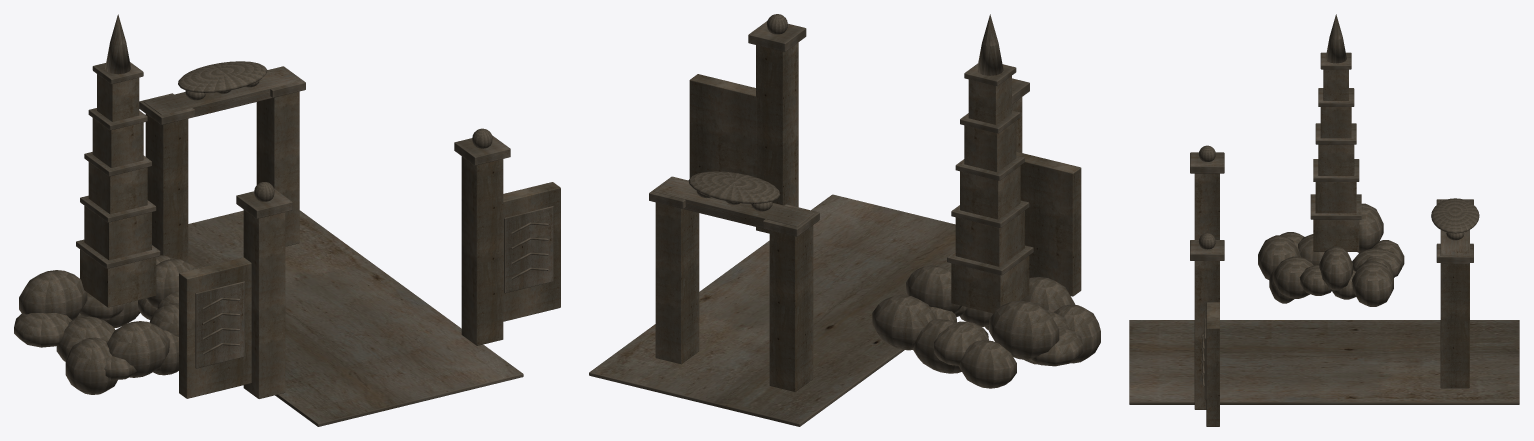
File: thap_but_dai_nghien.glb
The picture shows the model from 3 angles, left to right: view 1: azimuth 30°, elevation 25°; view 2: azimuth 150°, elevation 25°; view 3: azimuth 270°, elevation 25°; orthographic projection. The views are drawn at different scales.
Visible parts, largest first — view 1: thap_but_dai_nghien.001; view 2: thap_but_dai_nghien.001; view 3: thap_but_dai_nghien.001.
Part boxes in pixels (left/top/right/bottom): thap_but_dai_nghien.001: left=14, top=14, right=560, bottom=426; thap_but_dai_nghien.001: left=589, top=14, right=1100, bottom=426; thap_but_dai_nghien.001: left=1129, top=14, right=1519, bottom=426.
Bounding box in the file's own units: 11.1 × 8.02 × 10.
Materials: 2 (2 with a texture image).
